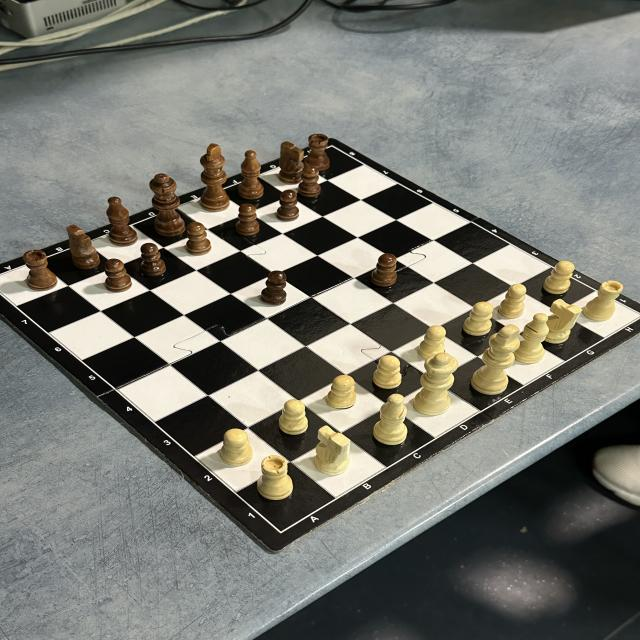Black-Bishop: (106, 197, 138, 246), (238, 150, 264, 200)
Black-King: (199, 143, 228, 212)
Black-Knight: (66, 224, 100, 270), (278, 142, 305, 185)
Black-Pawn: (260, 270, 290, 305), (104, 258, 133, 292), (372, 253, 398, 287), (186, 222, 212, 256), (141, 242, 166, 276), (235, 204, 261, 236), (298, 165, 322, 197), (276, 190, 300, 222)
Black-Queen: (149, 172, 184, 237)
Black-Rook: (22, 248, 58, 292), (304, 134, 330, 171)
White-Bishop: (371, 394, 410, 446), (515, 313, 548, 364)
White-King: (470, 324, 522, 396)
White-Knight: (314, 425, 352, 477), (546, 298, 582, 344)
White-Pawn: (219, 429, 254, 466), (497, 282, 529, 320), (544, 260, 576, 295), (327, 374, 358, 410), (278, 399, 309, 435), (462, 302, 495, 334), (417, 324, 447, 358), (373, 356, 403, 390)
White-Queen: (412, 352, 460, 417)
White-Rook: (582, 278, 624, 322), (257, 455, 295, 501)
